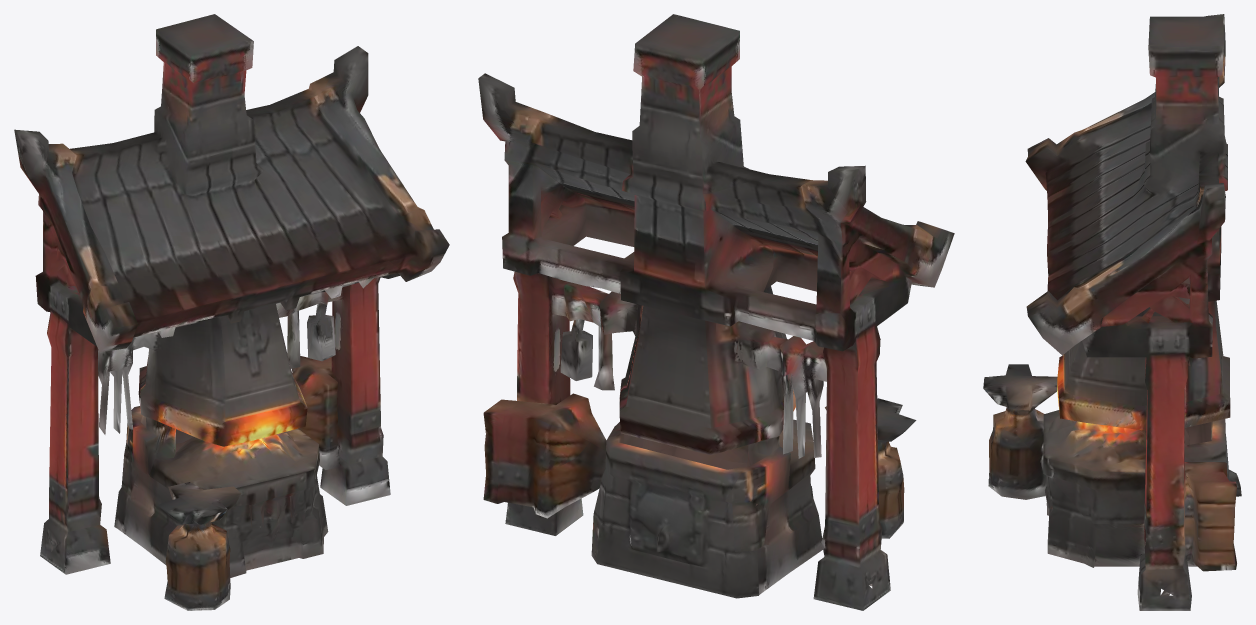
The model's file is SM_Tripo_InfernoForgeStall.glb.
The picture shows the model from 3 angles, left to right: view 1: azimuth 30°, elevation 25°; view 2: azimuth 150°, elevation 25°; view 3: azimuth 270°, elevation 25°; orthographic projection. The views are drawn at different scales.
Visible parts, largest first — view 1: SM_Tripo_InfernoForgeStall_LOD0; view 2: SM_Tripo_InfernoForgeStall_LOD0; view 3: SM_Tripo_InfernoForgeStall_LOD0.
Boxes of the visible parts, x1,y1,x2,y2 form: SM_Tripo_InfernoForgeStall_LOD0: (14,14,449,610); SM_Tripo_InfernoForgeStall_LOD0: (478,14,954,610); SM_Tripo_InfernoForgeStall_LOD0: (983,14,1241,610).
Bounding box in the file's own units: 2.6 × 3.47 × 1.63.
1 material, 1 textured.
